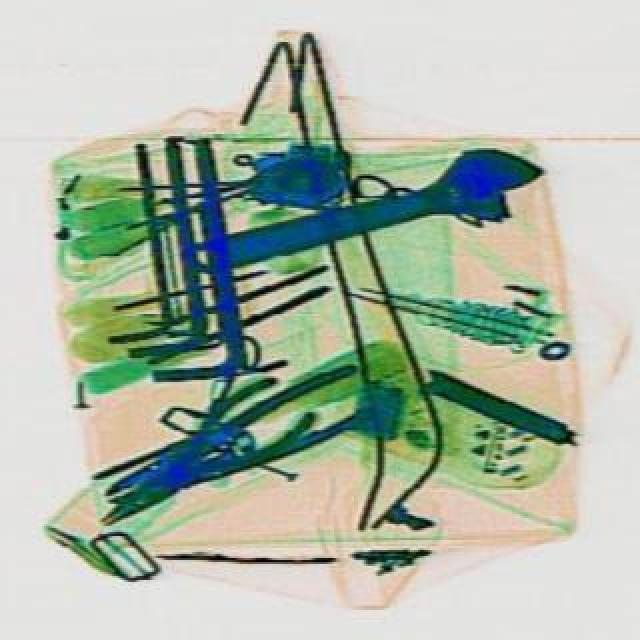scissors: (166, 130, 550, 298)
wrench: (88, 354, 382, 528), (76, 366, 320, 550)
